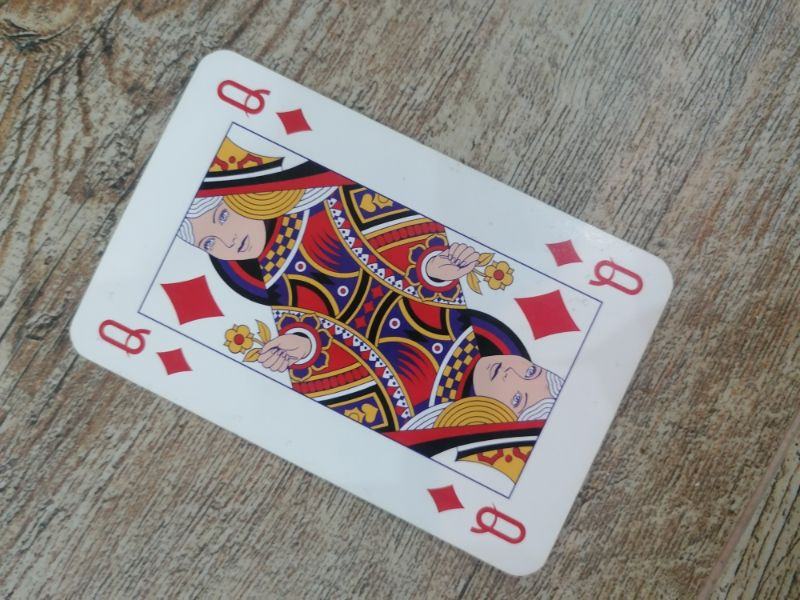Qd: (423, 479, 529, 551), (541, 232, 646, 304), (95, 313, 198, 384), (214, 74, 316, 140)
